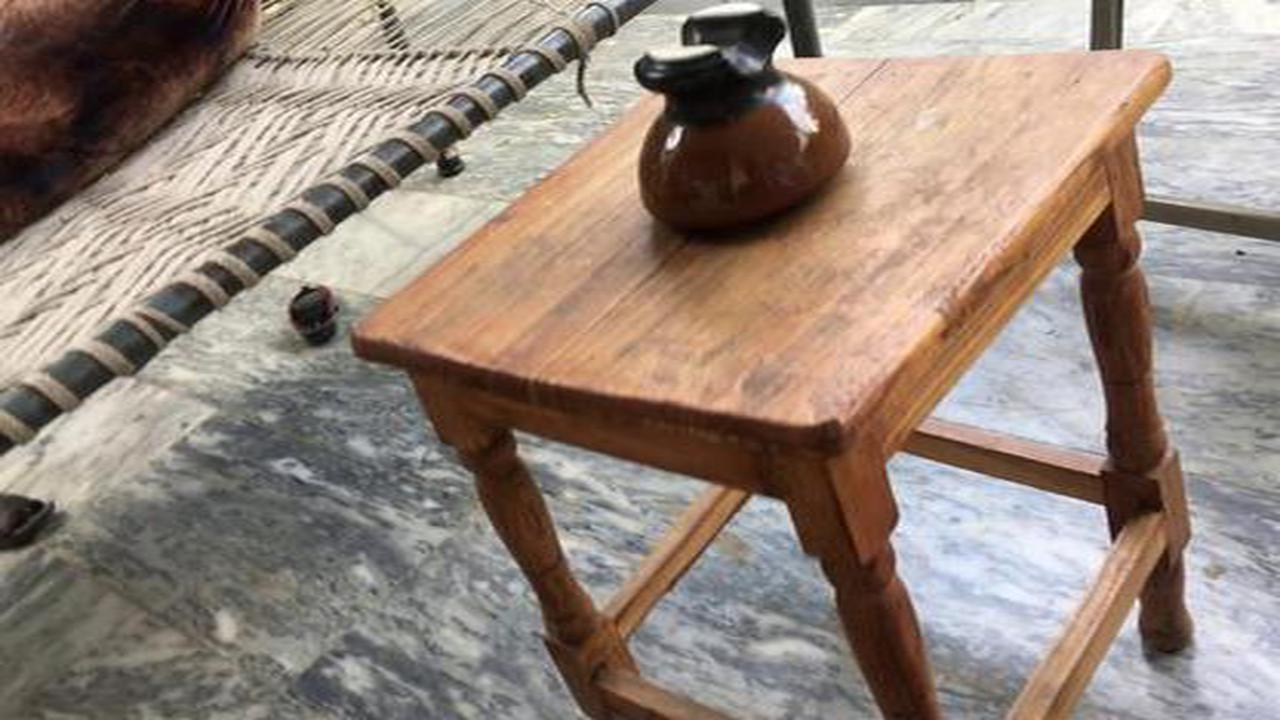insulator_pin: (607, 4, 877, 246)
